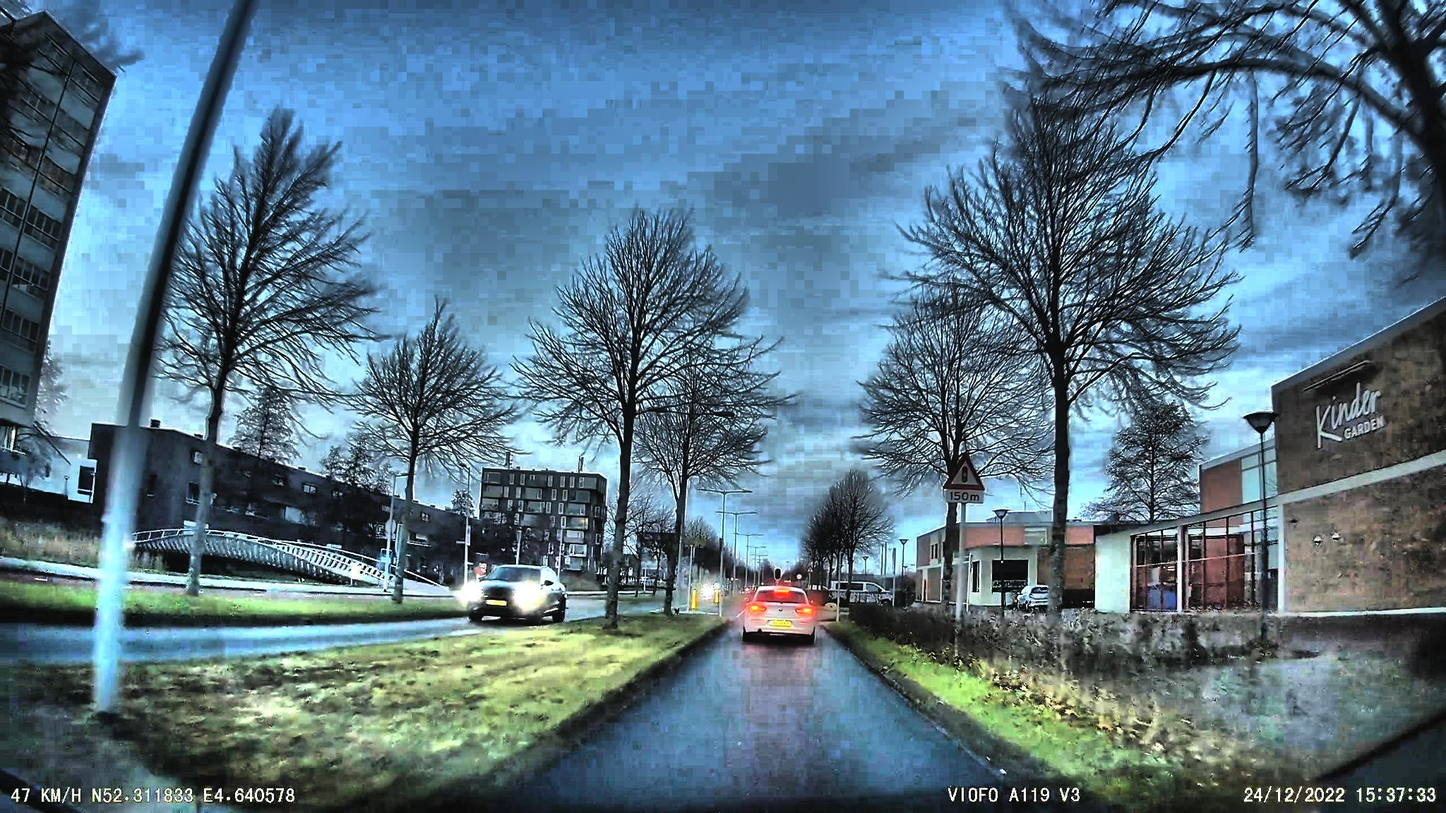Roads: (524, 626, 1004, 813)
